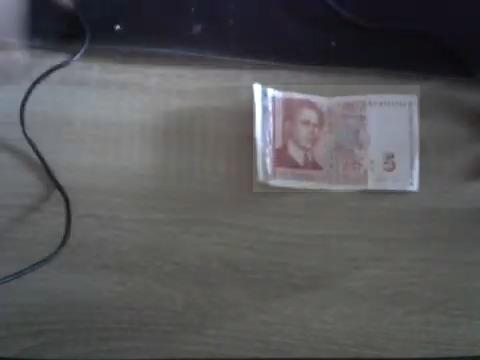5leva: (253, 85, 420, 192)
